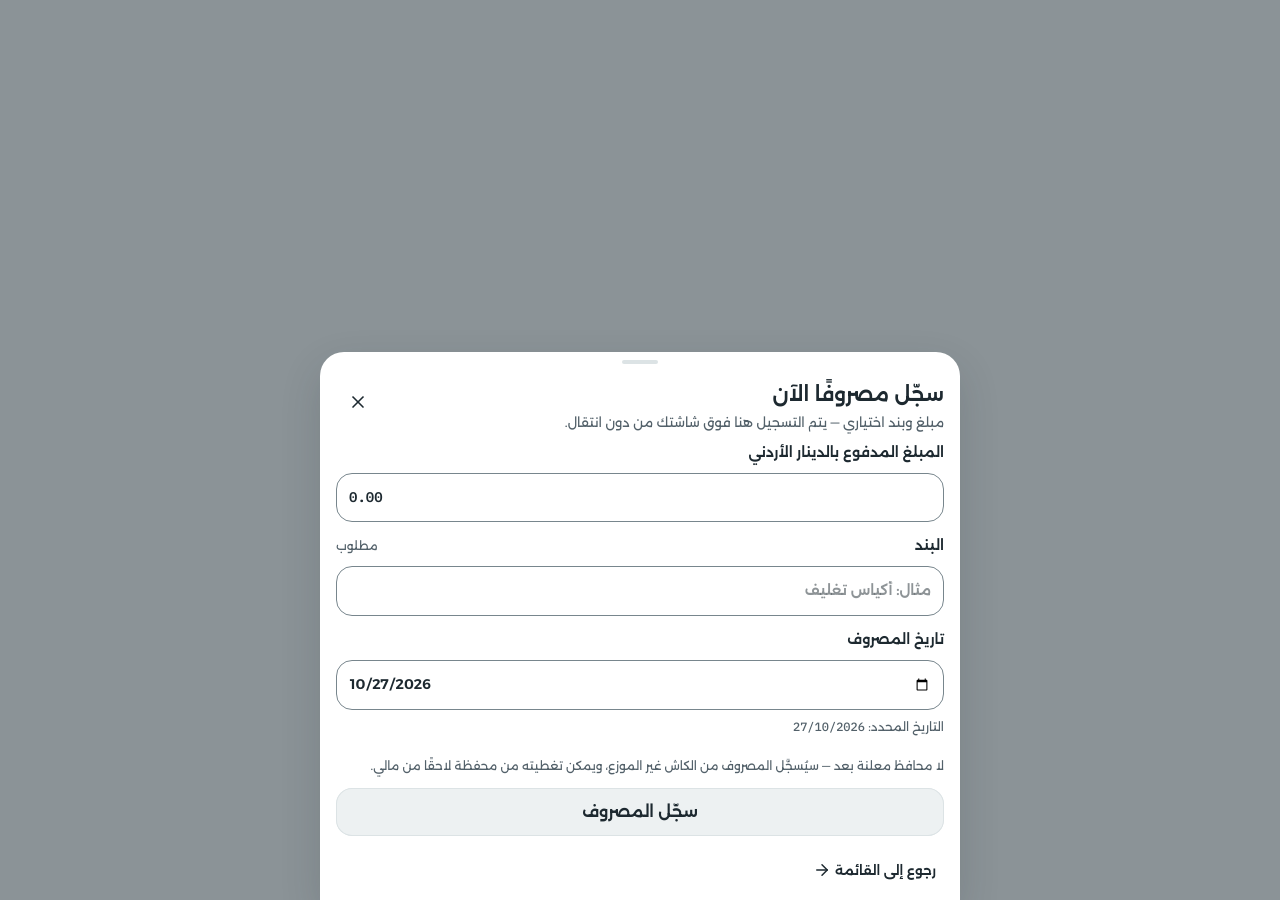
Scenario: Wave 4.3 — P-4.3-2: quick sheet safe Enter, editable date, corrected label › Z2.4: a reused quick-expense record renders the same neutral protection receipt — parity with the sale form
Replace the text in the field named "مبلغ المصروف" with "5.25" at point(640, 498), box [336,473,944,522]
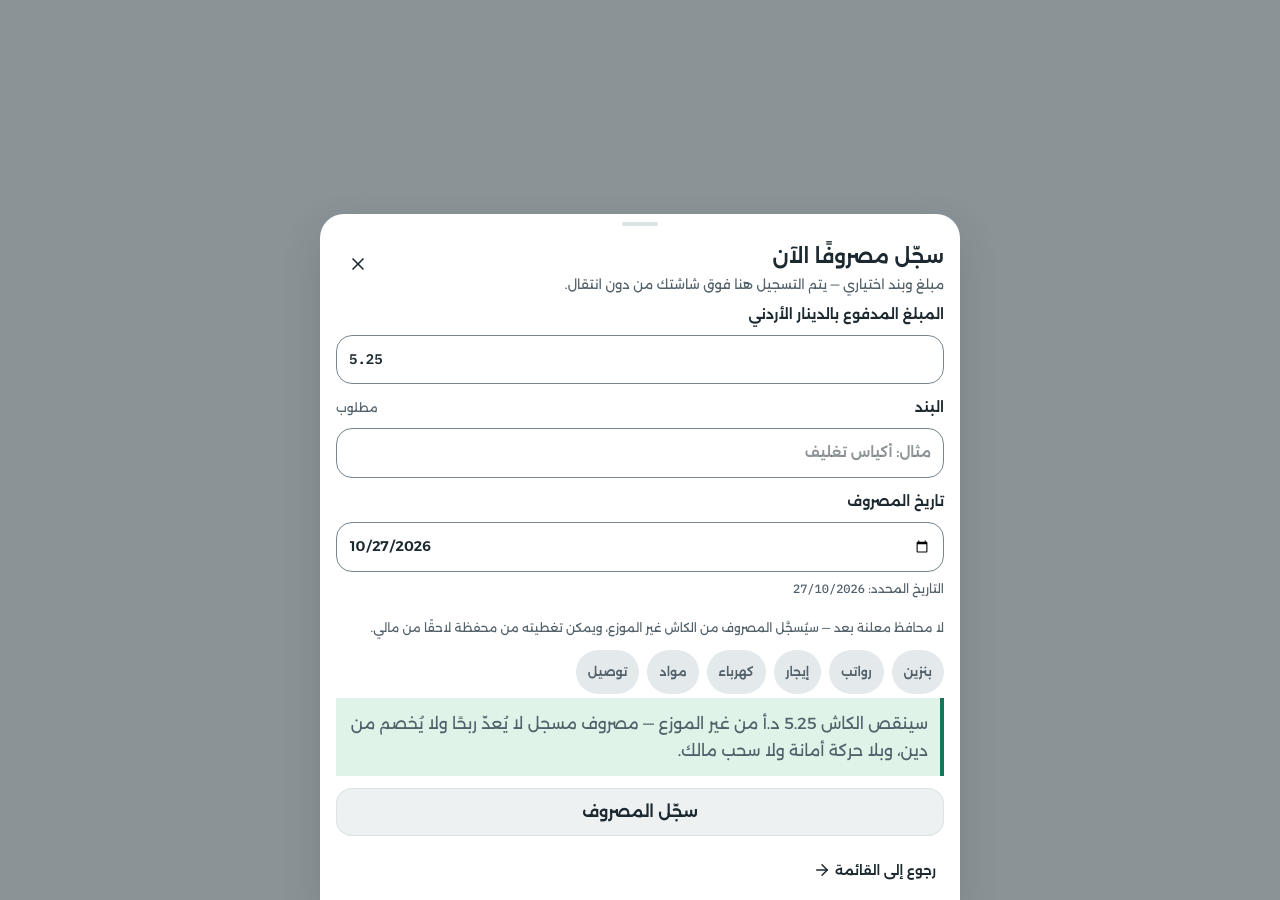
Type "أكياس اختبار" into the field with placeholder "مثال: أكياس تغليف" at point(640, 453), box [336,428,944,478]
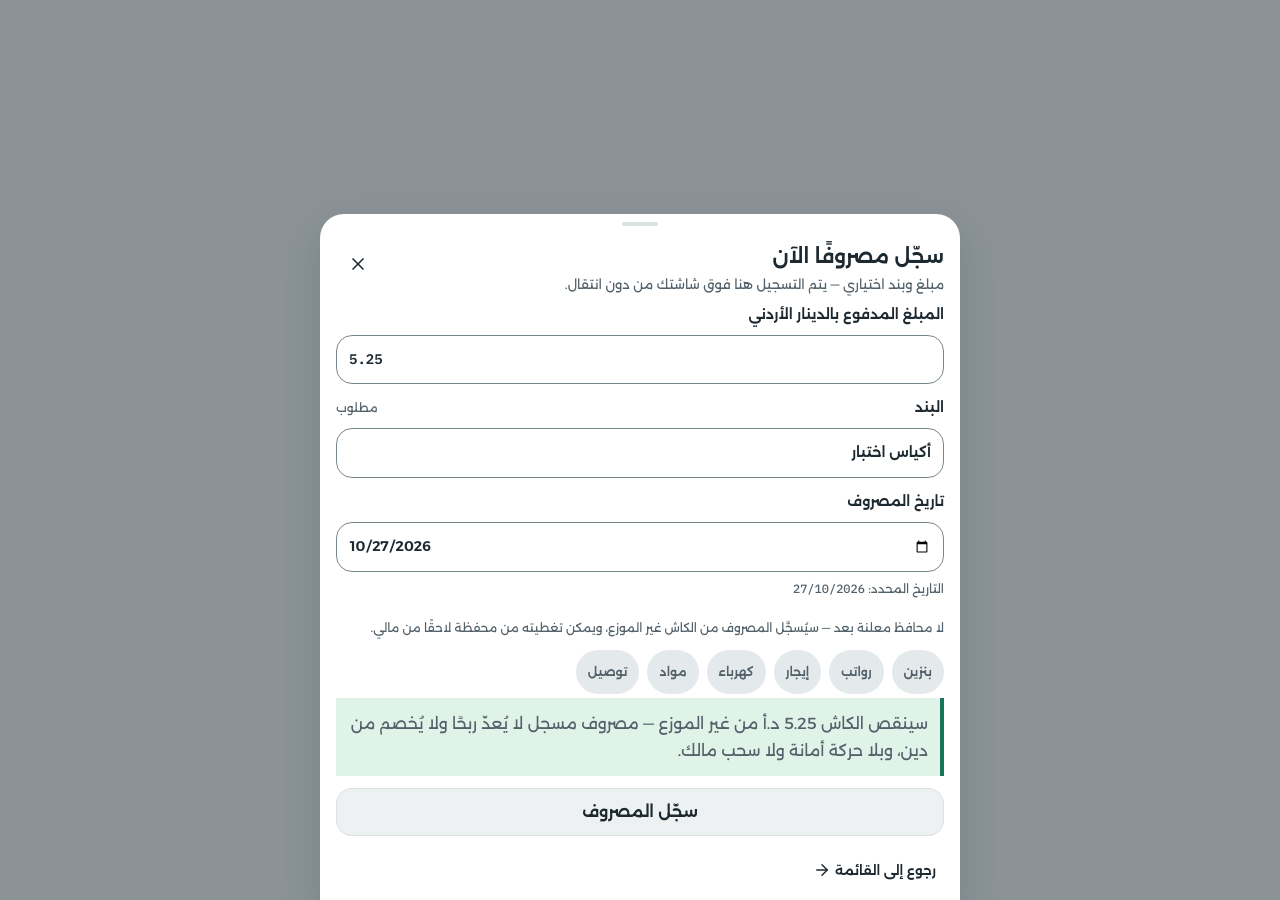
Submit the form named "مبلغ المصروف", box [320,302,960,899]
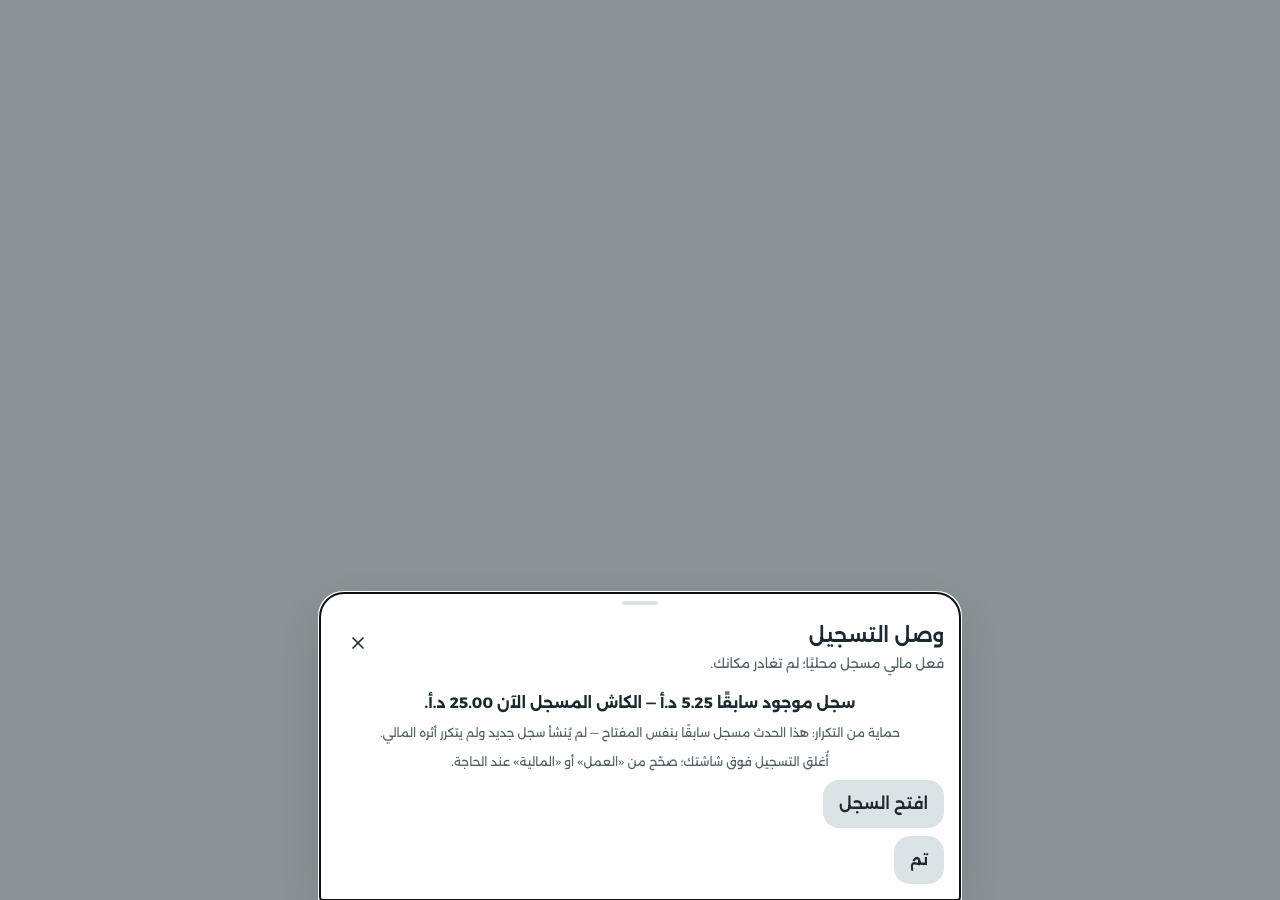
expect the heading "وصل التسجيل" is shown: met, box [809,623,944,647]
expect the text "سجل موجود سابقًا 5.25 د.أ — الكاش المسجل الآن 25.00 د.أ." is shown: met, box [425,693,855,712]
expect the text "لم يُنشأ سجل جديد" is shown: met, box [380,725,900,740]
